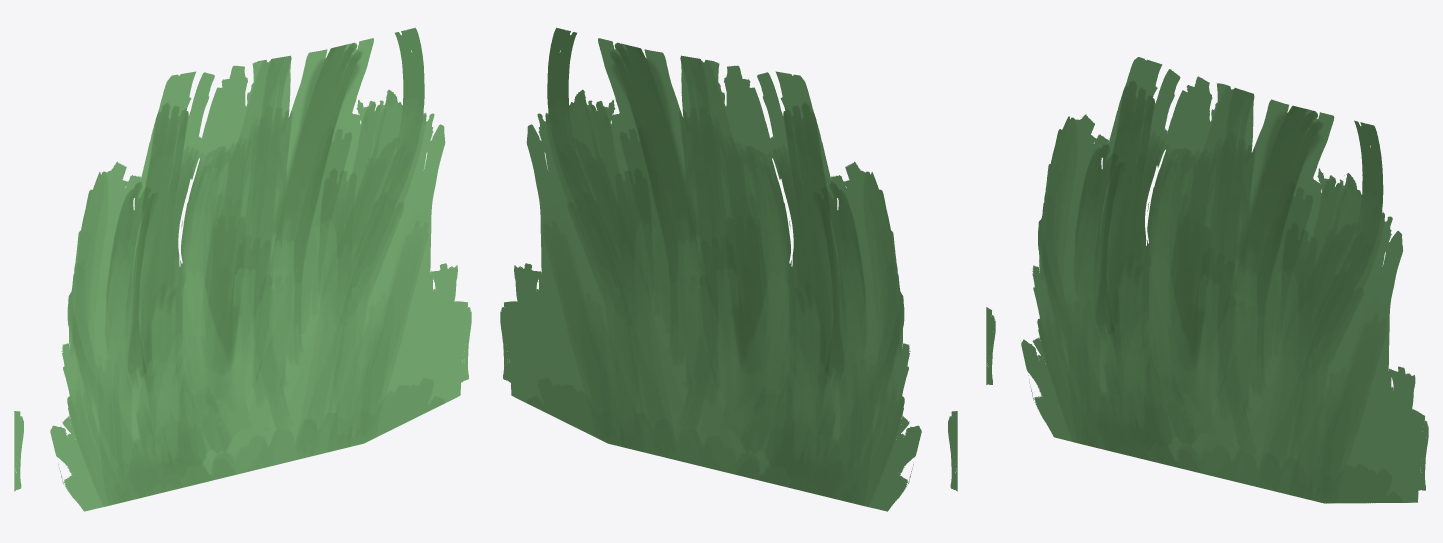
Rendered from Envi_Grass_01.FBX.
3 renders of one model, left to right at view 1: azimuth 30°, elevation 25°; view 2: azimuth 150°, elevation 25°; view 3: azimuth 330°, elevation 25°, orthographic. The views are drawn at different scales.
Parts seen in each view (by area): view 1: Plane003; view 2: Plane003; view 3: Plane003.
Part boxes in pixels (x1,y1,x2,y2): Plane003: [14, 27, 471, 511]; Plane003: [500, 27, 957, 511]; Plane003: [986, 57, 1428, 503].
Bounding box in the file's own units: 40.23 × 35.37 × 4.69e-06.
